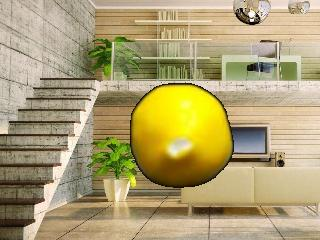lemon: (132, 84, 232, 186)
